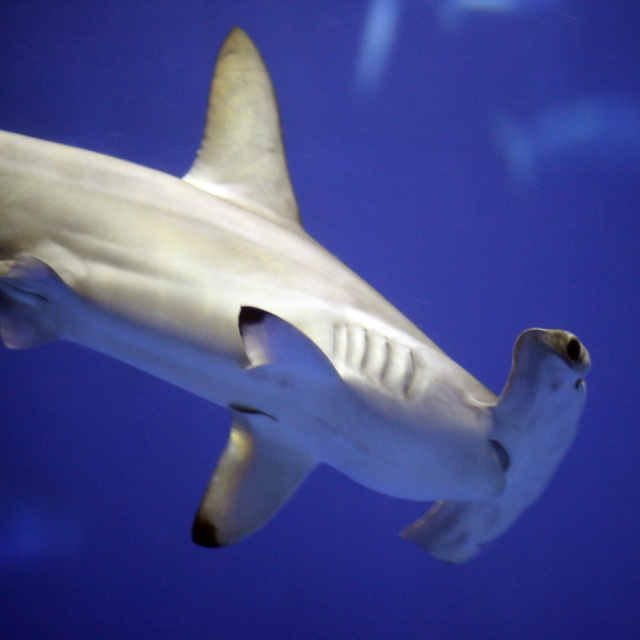Fish: (0, 25, 591, 564)
